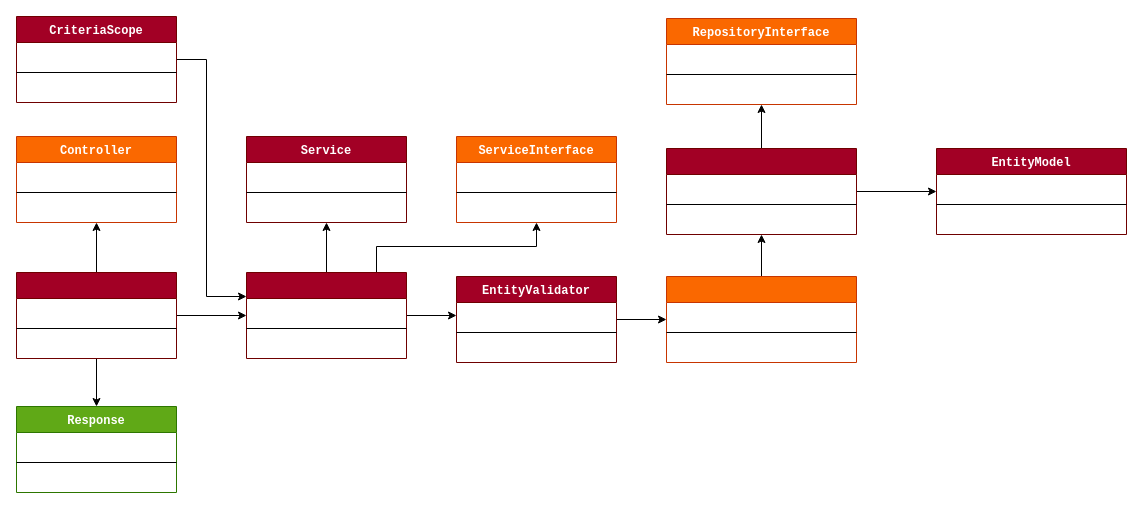
The diagram is 1143 pixels wide and 509 high, and some of its shapes have lost their labels. The centre of each missing label's shape, as x and y in pixels:
EntityController: the point at 96,315
EntityRepository: the point at 761,191
EntityRepositoryInterface: the point at 761,319
EntityService: the point at 326,315
